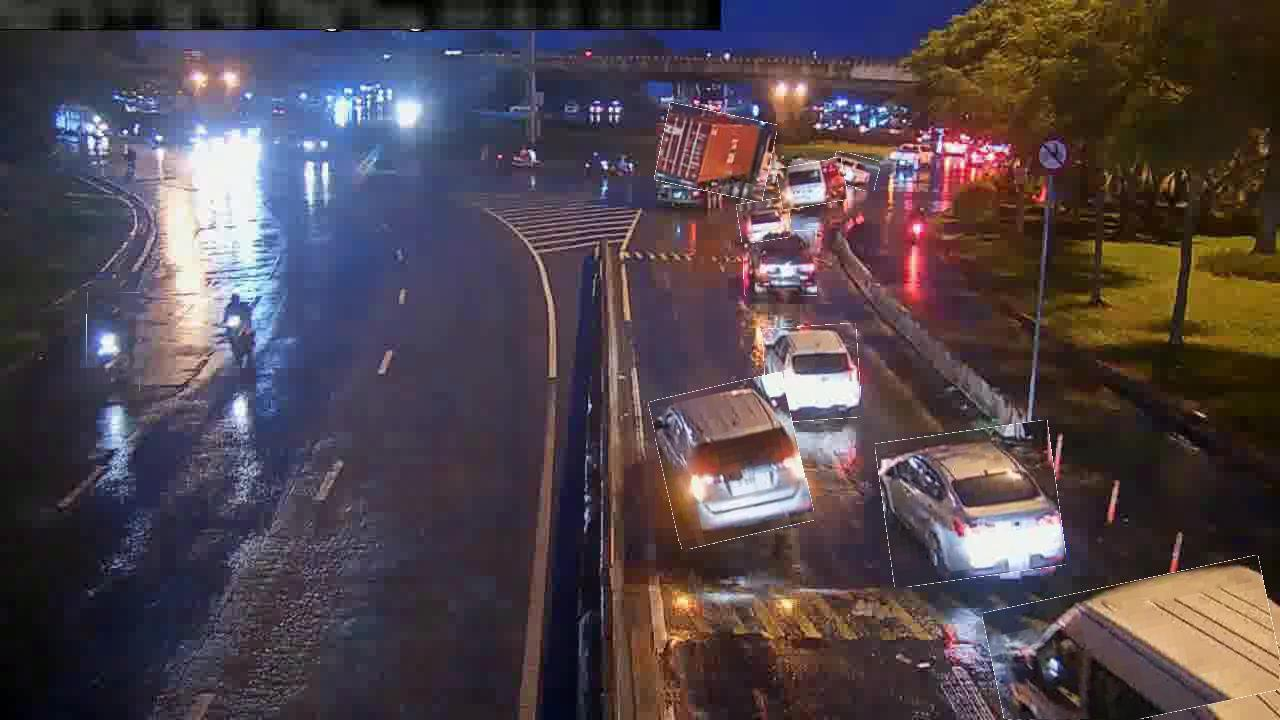car: (880, 426, 1063, 583), (656, 378, 808, 544), (764, 324, 861, 422), (744, 231, 818, 297), (738, 199, 791, 243), (830, 154, 880, 190)
container: (658, 108, 775, 197)
motorbike: (87, 292, 141, 392), (219, 285, 253, 361)
passenger_car: (987, 569, 1279, 719), (778, 161, 847, 208)
